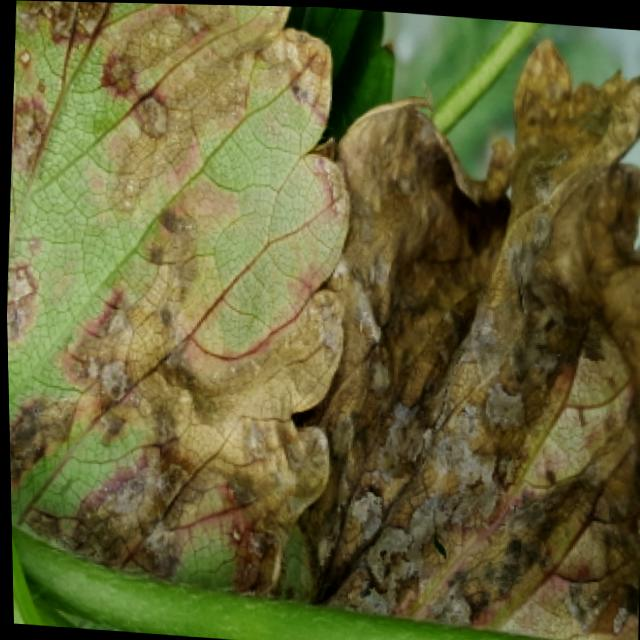Angular Leafspot: (265, 31, 640, 640), (5, 0, 351, 640)
